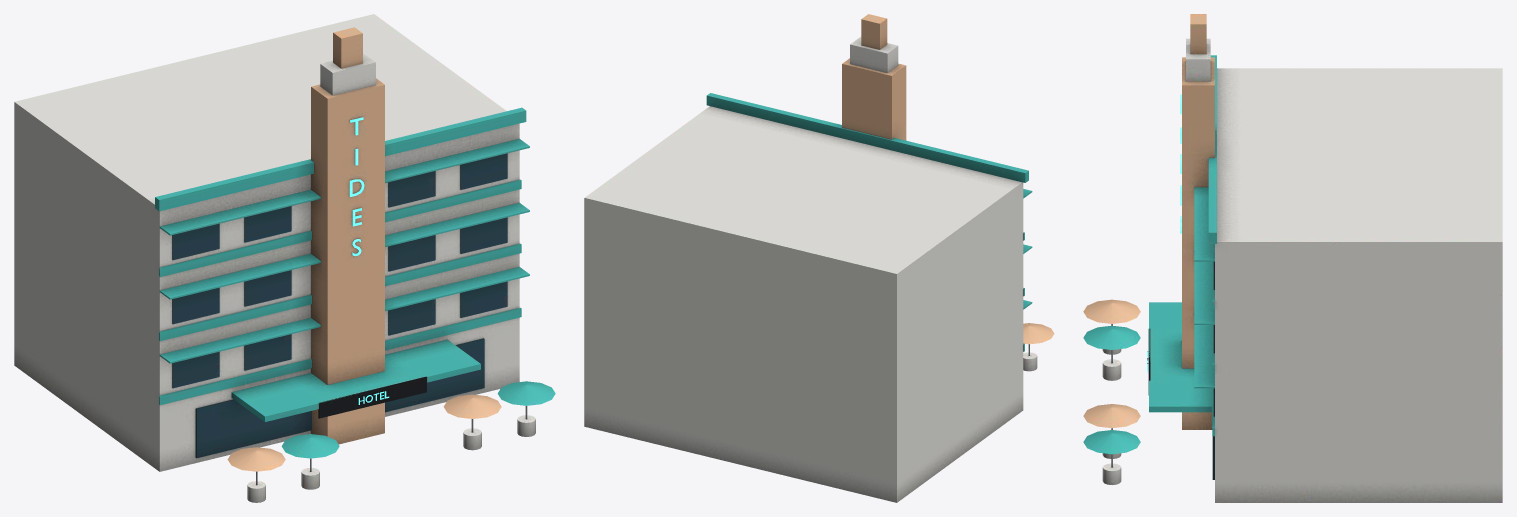
The model's file is hotel_deco_azul.glb.
The picture shows the model from 3 angles, left to right: view 1: azimuth 30°, elevation 25°; view 2: azimuth 150°, elevation 25°; view 3: azimuth 270°, elevation 25°; orthographic projection. The views are drawn at different scales.
Visible parts, largest first — view 1: hotel_deco_azul; view 2: hotel_deco_azul; view 3: hotel_deco_azul.
Boxes of the visible parts, left/top/right/bottom form: hotel_deco_azul: left=14, top=14, right=555, bottom=502; hotel_deco_azul: left=584, top=14, right=1054, bottom=502; hotel_deco_azul: left=1083, top=14, right=1502, bottom=502.
Bounding box in the file's own units: 20.4 × 21.3 × 20.4.
Materials: 1 (1 with a texture image).
